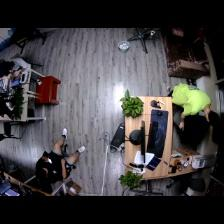normal: (167, 83, 220, 133), (36, 127, 85, 179), (1, 57, 35, 79)
